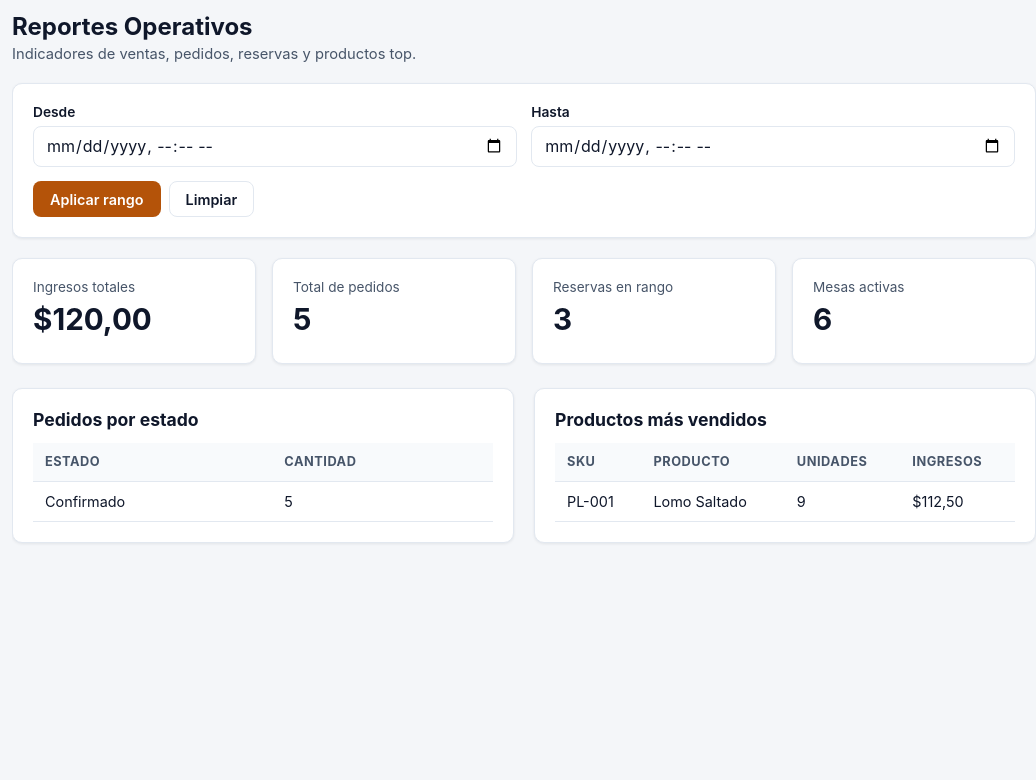
Scenario: Dashboard, Notifications, Reports, Users y StatusBadge › ReportsPage muestra métricas, top productos y maneja error de API
Expected: the text "Lomo Saltado" is shown, [641,481,785,521]
Expected: the text "Confirmado" is shown, [33,481,272,521]
Type "2026-11-01T08:00" into the field labelled "Desde".
click(275, 146); type("2026-11-01T08:00")  # box [33,126,517,167]
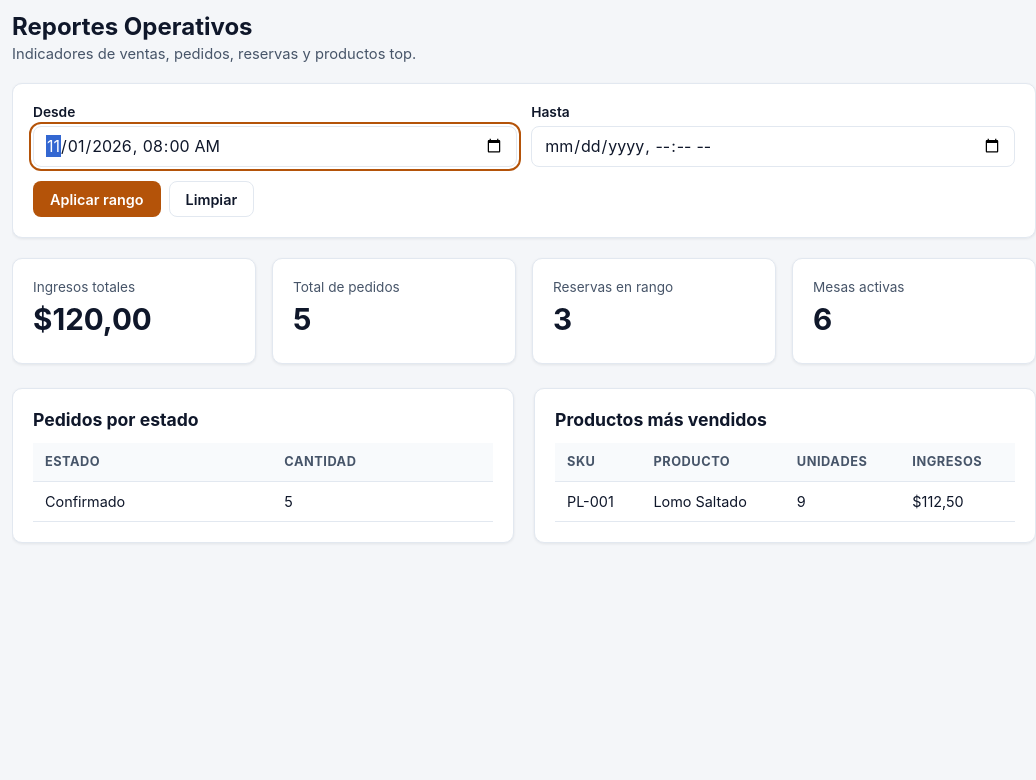
Click the button "Aplicar rango".
click(97, 199)  # box [33,181,160,217]
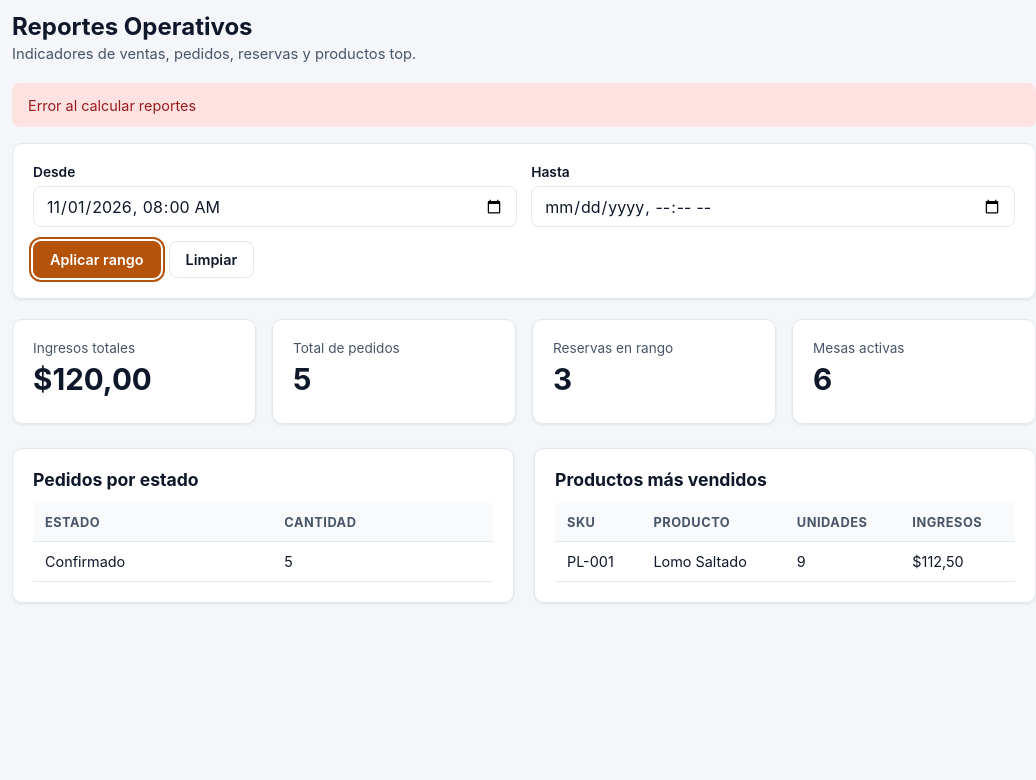
Expected: the message reads "Error al calcular reportes", [28,97,196,114]
